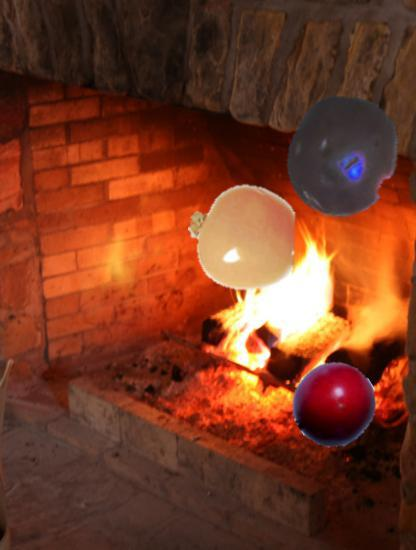Passion: (281, 96, 404, 219)
Physalis: (188, 183, 298, 293)
Tamarillo: (292, 362, 378, 448)
